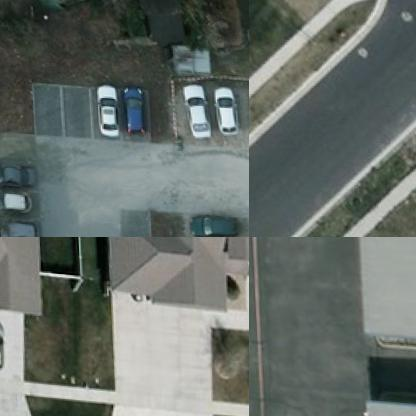car: (180, 205, 235, 234), (209, 77, 234, 132), (90, 76, 112, 132), (181, 76, 201, 132), (116, 81, 139, 129), (0, 156, 31, 184), (0, 185, 27, 217), (0, 212, 29, 236)
